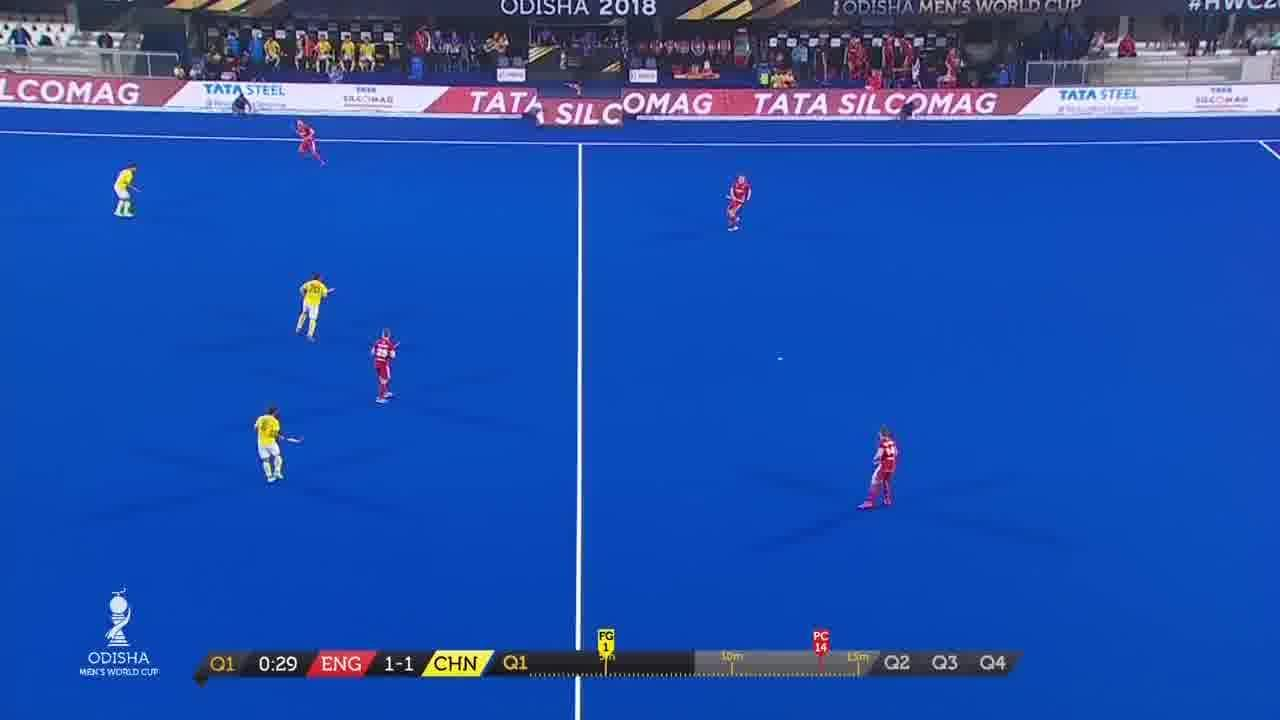ball: (773, 352, 786, 368)
